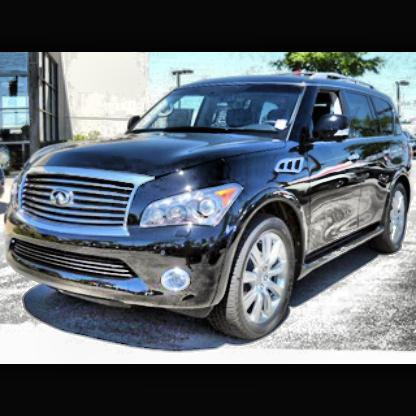Infiniti QX56 SUV 2011: (3, 79, 416, 337)
